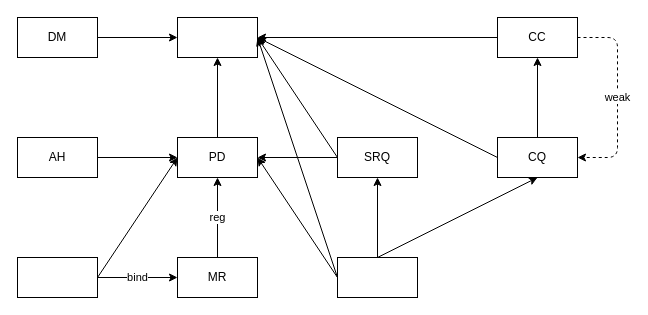
This 648x315 diagram has some shape labels left out. The centre of each missing label's shape, as x and y in pixels:
"CTX" goes at pixel 217 37.
"MW" goes at pixel 57 277.
"QP" goes at pixel 377 277.
